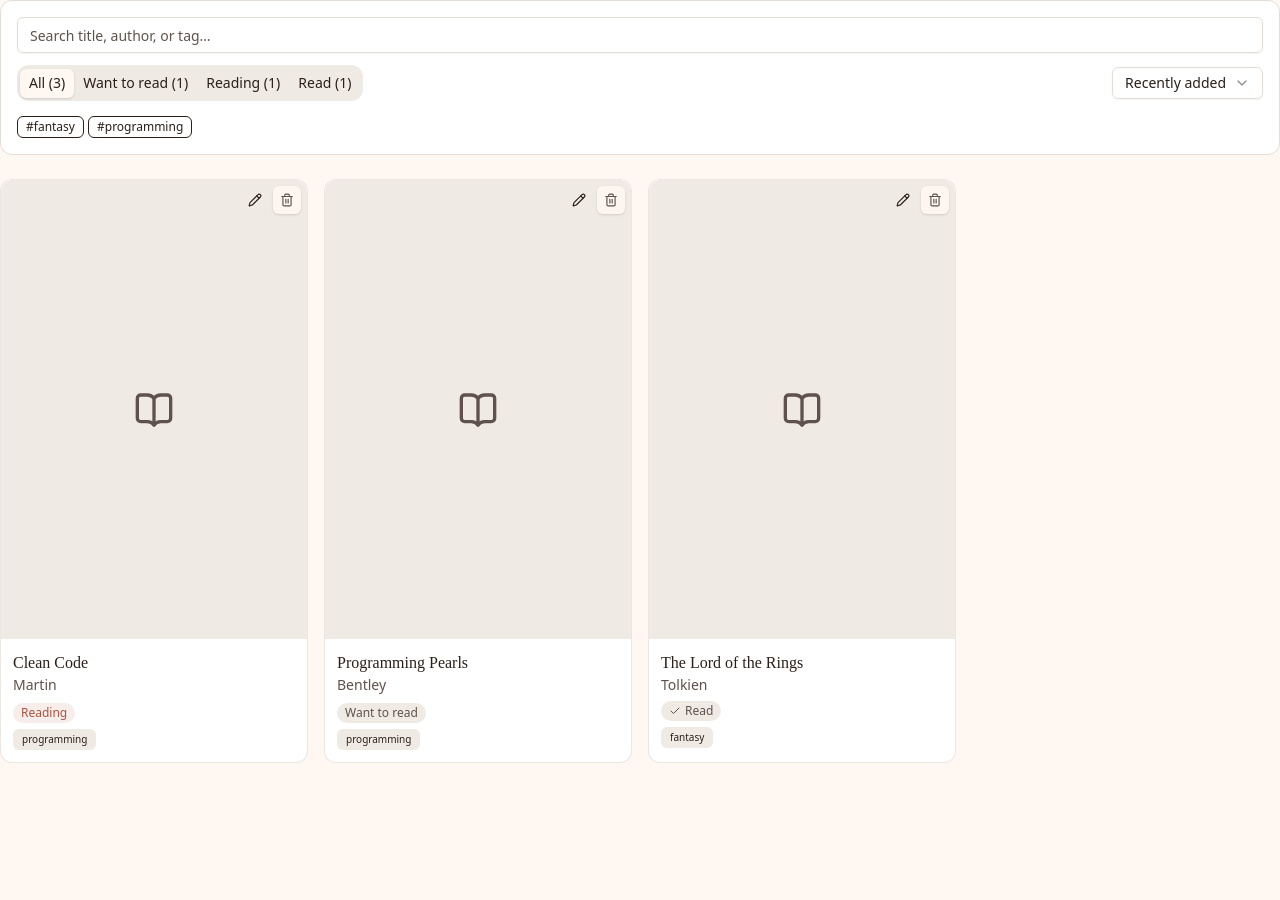
it: ShelfList › tag filter (spec 010) › clicking a tag chip narrows the grid
Check: the heading "The Lord of the Rings" is shown, box [661,654,803,671]
Check: the heading "Programming Pearls" is shown, box [337,654,468,671]
Click the checkbox with test id "shelf-tag-fantasy". click: {"x": 50, "y": 126}
box: [17,113,84,138]
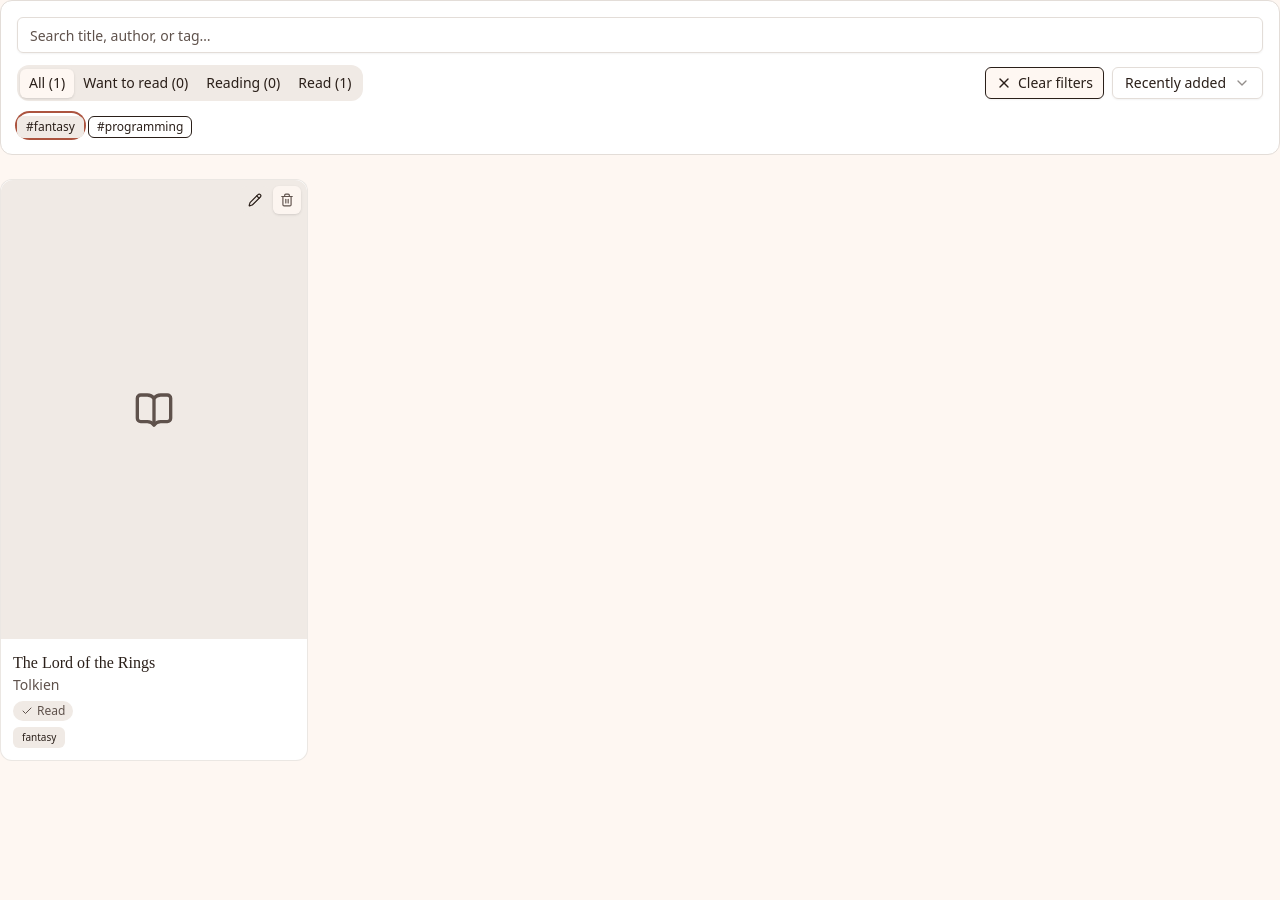
Check: the heading "The Lord of the Rings" is shown, box [13,654,155,671]
Check: the link "Programming Pearls" is gone
Check: the link "Clean Code" is gone
